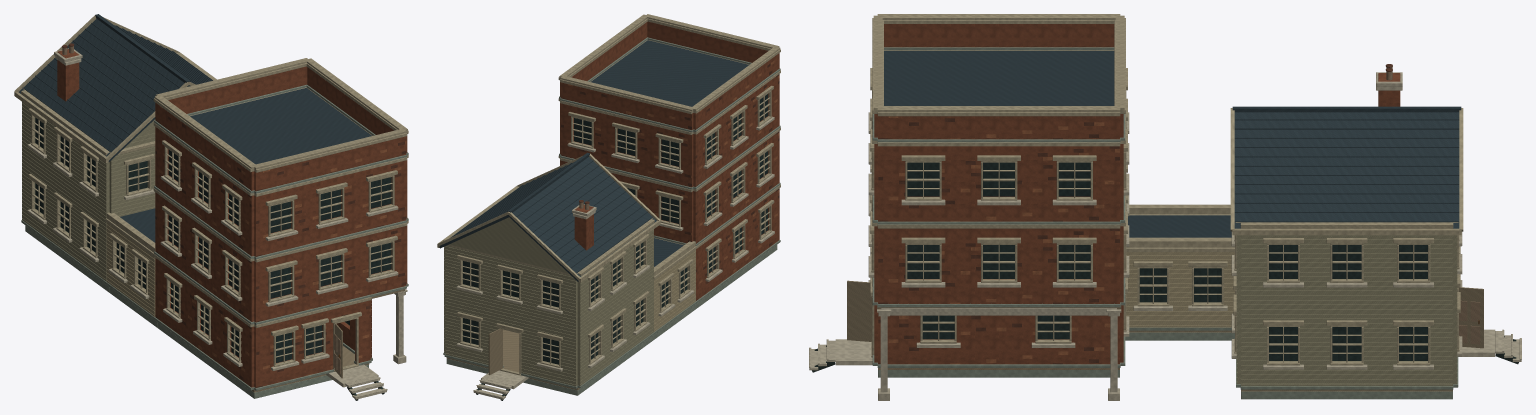
3 renders of one model, left to right at view 1: azimuth 30°, elevation 25°; view 2: azimuth 150°, elevation 25°; view 3: azimuth 270°, elevation 25°, orthographic. The views are drawn at different scales.
Parts seen in each view (by area): view 1: A009-18_02_Masonry_Facing, A009-18_01_Wall_Shell, A009-18_04_Architectural_Trim, A009-18_11_Roof_Rear_Coachhouse, A009-18_03_Window_Door_Frames, A009-18_02_Clapboard, A009-18_11_Roof_Tall_Street_House, A009-18_06_Glazing, A009-18_12_Roof_Edges, A009-18_00_Foundation, A009-18_13_Chimneys, A009-18_07_Floors (+4 smaller); view 2: A009-18_02_Masonry_Facing, A009-18_02_Clapboard, A009-18_01_Wall_Shell, A009-18_04_Architectural_Trim, A009-18_11_Roof_Rear_Coachhouse, A009-18_03_Window_Door_Frames, A009-18_11_Roof_Tall_Street_House, A009-18_06_Glazing, A009-18_12_Roof_Edges, A009-18_00_Foundation, A009-18_07_Floors, A009-18_13_Chimneys (+3 smaller); view 3: A009-18_02_Masonry_Facing, A009-18_02_Clapboard, A009-18_11_Roof_Rear_Coachhouse, A009-18_01_Wall_Shell, A009-18_04_Architectural_Trim, A009-18_06_Glazing, A009-18_11_Roof_Tall_Street_House, A009-18_03_Window_Door_Frames, A009-18_12_Roof_Edges, A009-18_00_Foundation, A009-18_10_Porch_Supports, A009-18_07_Floors (+5 smaller).
Part boxes in pixels (<box>): A009-18_02_Masonry_Facing: <box>155,103,406,387</box>; A009-18_01_Wall_Shell: <box>34,66,407,387</box>; A009-18_04_Architectural_Trim: <box>21,52,408,390</box>; A009-18_11_Roof_Rear_Coachhouse: <box>18,14,212,161</box>; A009-18_03_Window_Door_Frames: <box>31,114,394,371</box>; A009-18_02_Clapboard: <box>22,102,155,316</box>; A009-18_11_Roof_Tall_Street_House: <box>190,88,371,164</box>; A009-18_06_Glazing: <box>35,117,391,362</box>; A009-18_12_Roof_Edges: <box>14,15,407,252</box>; A009-18_00_Foundation: <box>25,225,368,398</box>; A009-18_13_Chimneys: <box>54,43,82,101</box>; A009-18_07_Floors: <box>251,289,404,392</box>; A009-18_02_Masonry_Facing: <box>561,53,779,300</box>; A009-18_02_Clapboard: <box>444,229,695,386</box>; A009-18_01_Wall_Shell: <box>444,21,779,386</box>; A009-18_04_Architectural_Trim: <box>443,18,780,388</box>; A009-18_11_Roof_Rear_Coachhouse: <box>439,152,656,281</box>; A009-18_03_Window_Door_Frames: <box>460,91,771,375</box>; A009-18_11_Roof_Tall_Street_House: <box>591,40,748,106</box>; A009-18_06_Glazing: <box>463,94,767,364</box>; A009-18_12_Roof_Edges: <box>437,14,780,282</box>; A009-18_00_Foundation: <box>446,245,777,395</box>; A009-18_07_Floors: <box>446,329,579,390</box>; A009-18_13_Chimneys: <box>572,200,596,250</box>; A009-18_02_Masonry_Facing: <box>878,116,1119,364</box>; A009-18_02_Clapboard: <box>1126,235,1457,386</box>; A009-18_11_Roof_Rear_Coachhouse: <box>1232,106,1461,228</box>; A009-18_01_Wall_Shell: <box>874,24,1456,385</box>; A009-18_04_Architectural_Trim: <box>868,18,1462,389</box>; A009-18_06_Glazing: <box>907,162,1427,360</box>; A009-18_11_Roof_Tall_Street_House: <box>884,51,1114,105</box>; A009-18_03_Window_Door_Frames: <box>871,90,1459,365</box>; A009-18_12_Roof_Edges: <box>873,14,1463,247</box>; A009-18_00_Foundation: <box>878,332,1452,399</box>; A009-18_10_Porch_Supports: <box>877,308,1121,400</box>; A009-18_07_Floors: <box>835,305,1495,391</box>.
Size of the model in its own units: 7.89 by 10.69 by 23.56.
14 materials, 14 textured.
